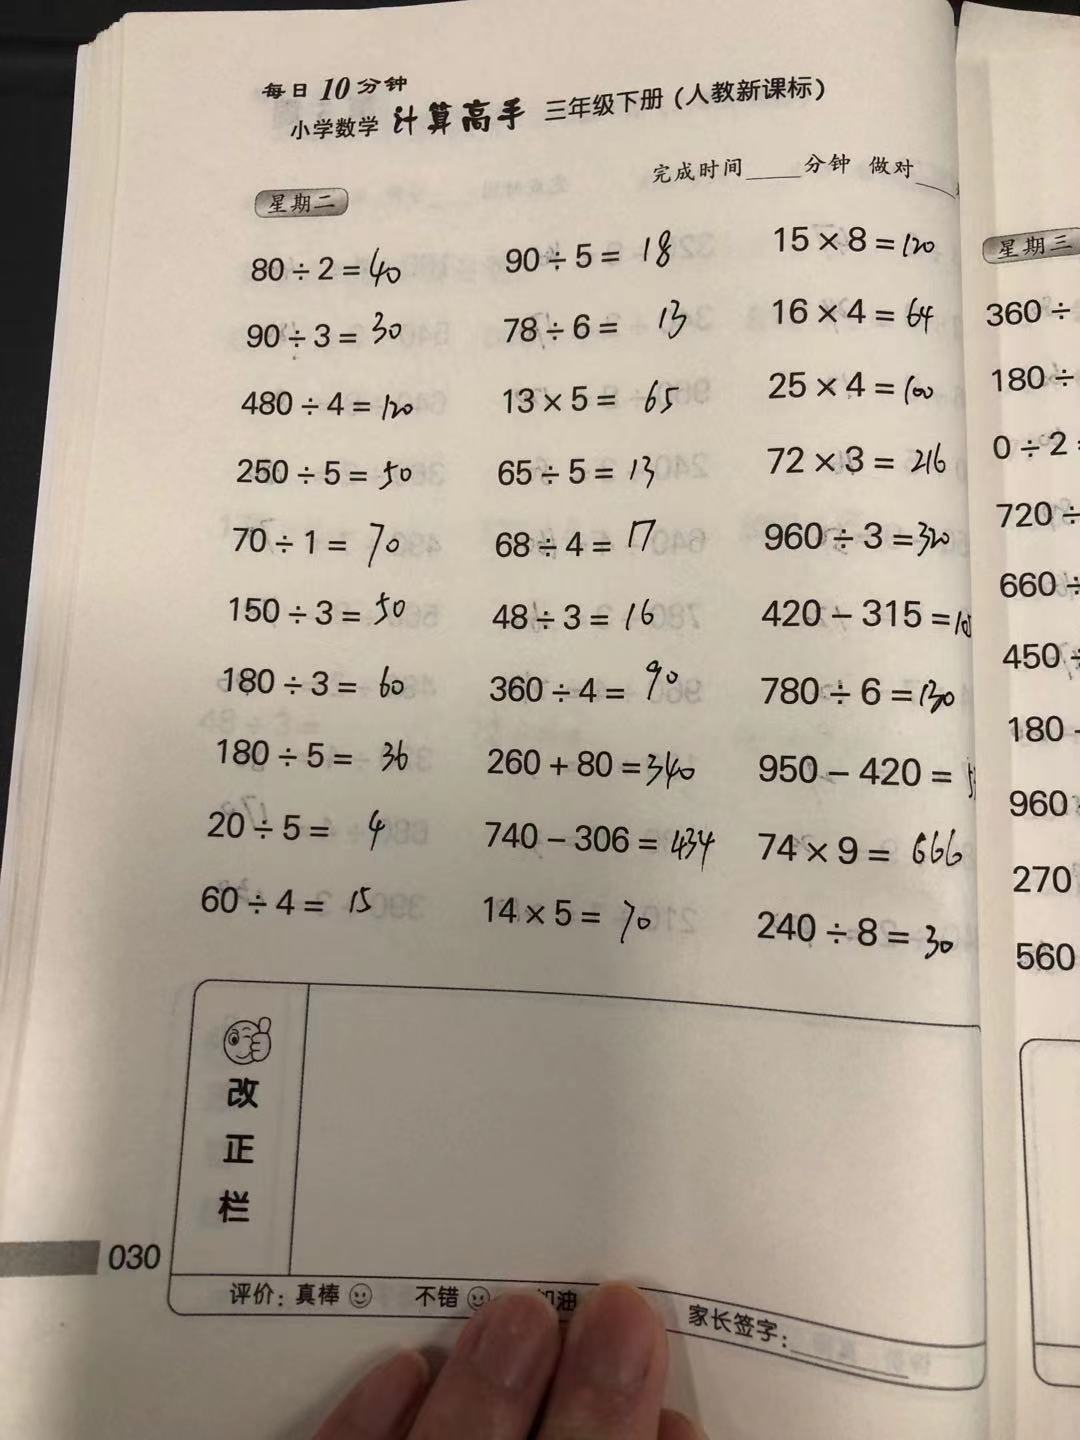equation: (476, 810, 722, 882), (210, 790, 422, 872), (214, 725, 447, 798), (746, 899, 971, 975), (476, 732, 710, 798), (474, 652, 699, 715), (225, 448, 474, 505), (746, 744, 987, 802), (213, 513, 424, 578), (221, 381, 471, 437), (488, 510, 724, 568), (756, 437, 968, 498), (469, 890, 668, 955), (493, 222, 707, 282), (216, 661, 424, 721), (761, 592, 981, 649), (754, 825, 974, 881), (474, 588, 680, 647), (748, 668, 965, 722), (222, 582, 425, 639), (191, 870, 393, 927), (490, 375, 697, 427), (751, 513, 961, 564), (241, 238, 425, 296), (497, 296, 693, 350), (765, 215, 956, 268), (762, 361, 950, 410), (763, 285, 944, 336), (245, 312, 442, 356), (490, 452, 682, 495)
